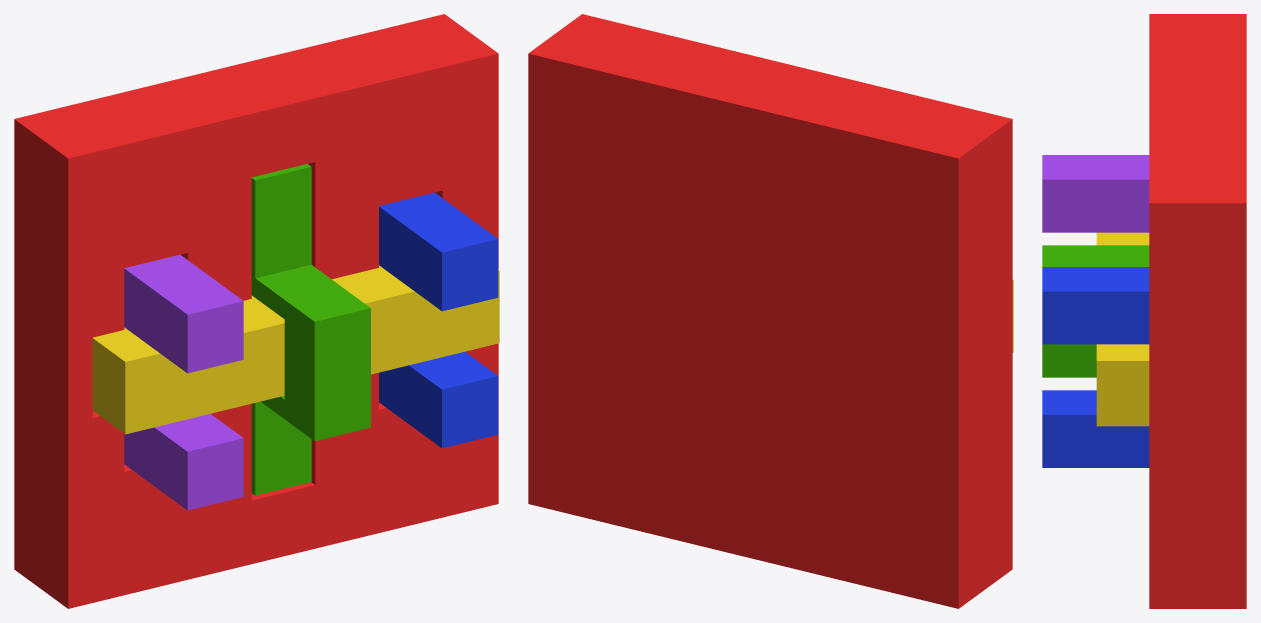
Rendered from assembly1.obj.
3 renders of one model, left to right at view 1: azimuth 30°, elevation 25°; view 2: azimuth 150°, elevation 25°; view 3: azimuth 270°, elevation 25°, orthographic. The views are drawn at different scales.
Visible parts, largest first — view 1: obj1, obj4, obj3, obj5, obj2; view 2: obj1; view 3: obj1, obj5, obj2, obj3, obj4.
Part boxes in pixels (bbox=[...]): obj1: bbox=[14, 14, 498, 608]; obj4: bbox=[251, 164, 370, 495]; obj3: bbox=[92, 265, 499, 434]; obj5: bbox=[379, 192, 498, 448]; obj2: bbox=[124, 254, 243, 510]; obj1: bbox=[528, 14, 1012, 608]; obj1: bbox=[1149, 14, 1246, 608]; obj5: bbox=[1042, 267, 1149, 467]; obj2: bbox=[1042, 155, 1149, 232]; obj3: bbox=[1096, 232, 1149, 426]; obj4: bbox=[1042, 245, 1149, 377].
Size of the model in its own units: 230 by 230 by 105.
